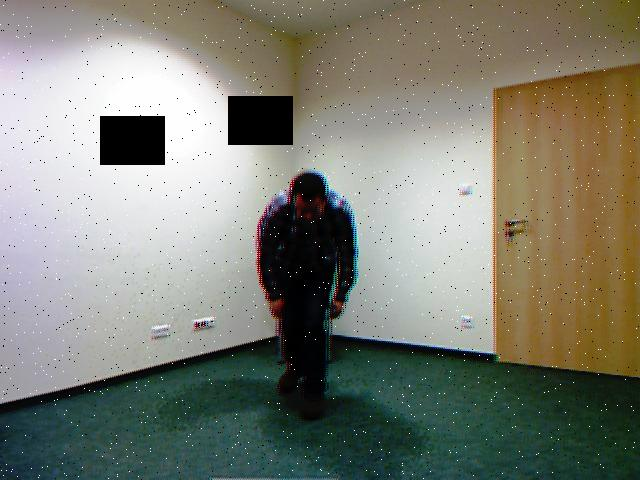bending: (250, 158, 367, 442)
